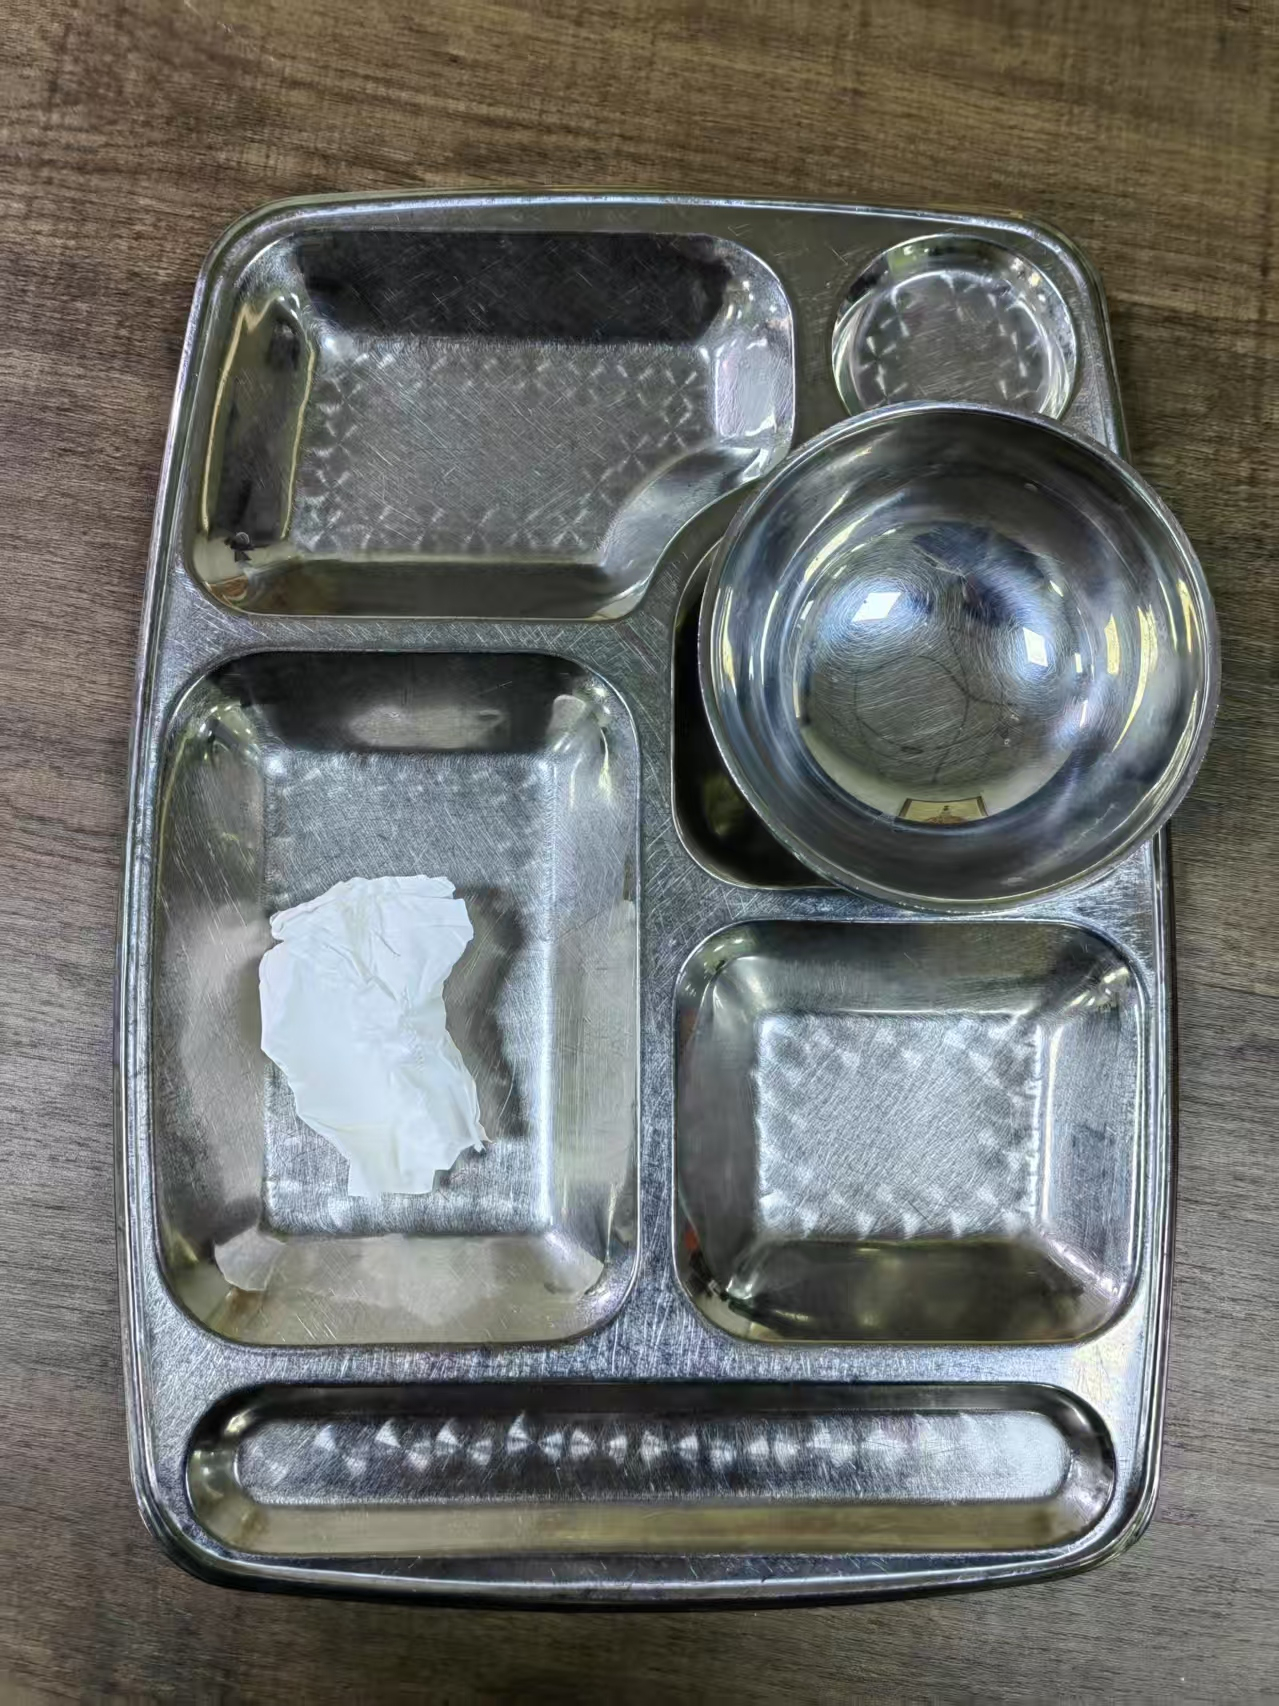plate: (121, 185, 1180, 1595)
tissue: (259, 870, 485, 1193)
